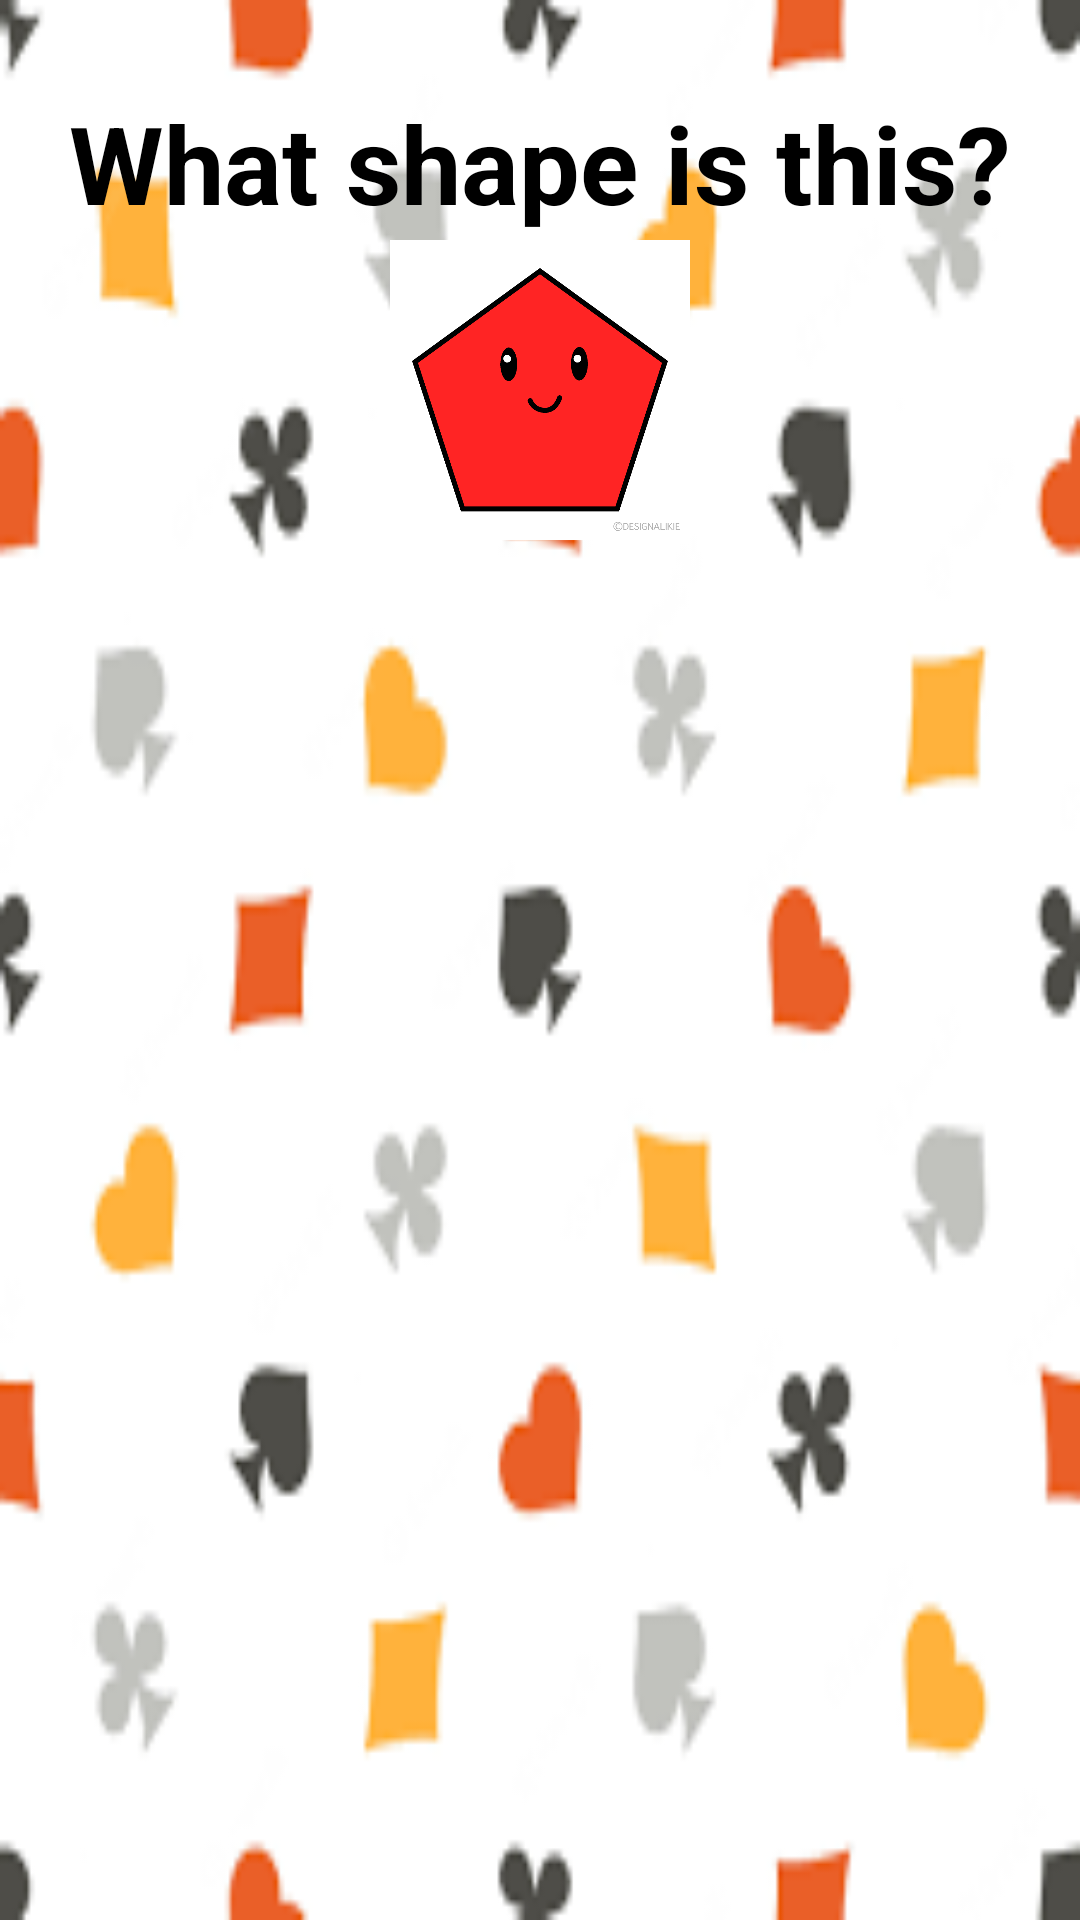

Where to tap for icons on this 1080px×1920px app screen, as [x,y]:
pentagon: [546,399]
